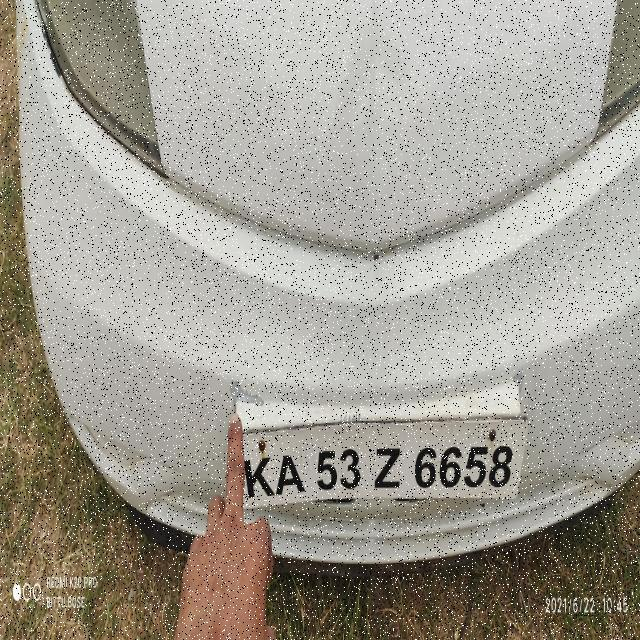front-bumper-dent: (186, 193, 432, 602)
